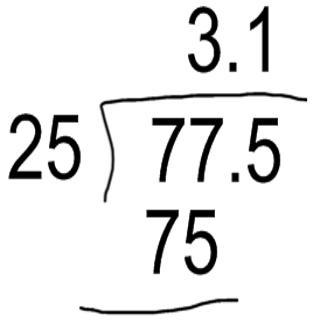.: (228, 165, 243, 186), (226, 56, 240, 77)
1: (244, 3, 276, 77)
2: (5, 103, 46, 185)
3: (183, 4, 224, 76)
5: (242, 110, 282, 186), (181, 206, 221, 277), (48, 107, 83, 185)
7: (145, 111, 187, 185), (141, 206, 181, 279), (189, 113, 224, 186)
